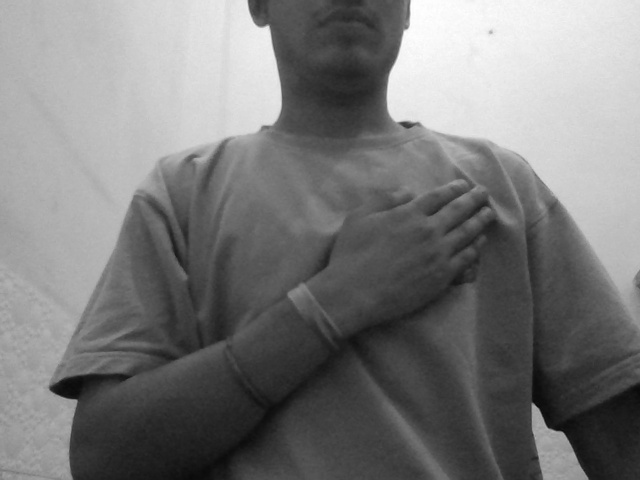Sorry: (311, 172, 529, 329)
